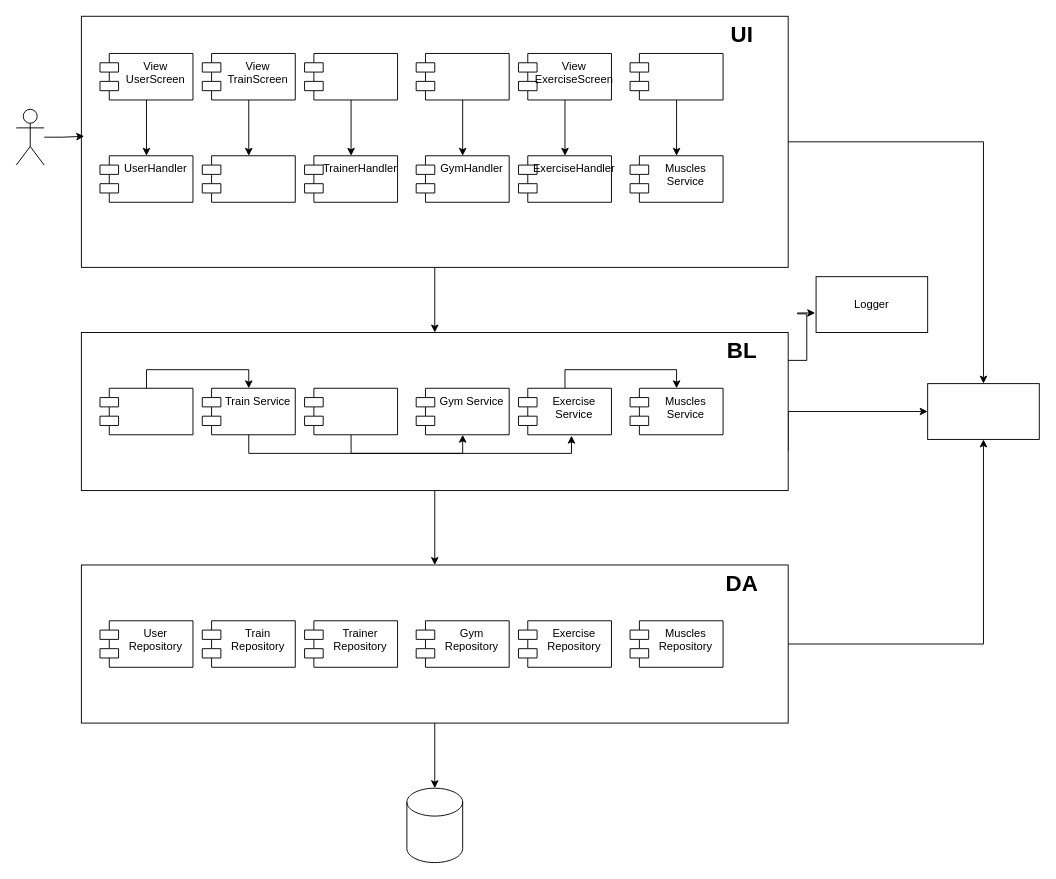
This 1056x879 diagram has some shape labels left out. The centre of each missing label's shape, as x and y in pixels:
"Actor" goes at (x=29, y=136).
"Config" goes at (x=983, y=411).
"DataBase" goes at (x=434, y=825).
"Trainer Service" goes at (x=351, y=411).
"TrainHandler" goes at (x=248, y=178).
"User Service" goes at (x=146, y=411).
"View GymScreen" goes at (x=462, y=76).
"View MusclesScreen" goes at (x=676, y=76).
"View TrainerScreen" goes at (x=351, y=76).
